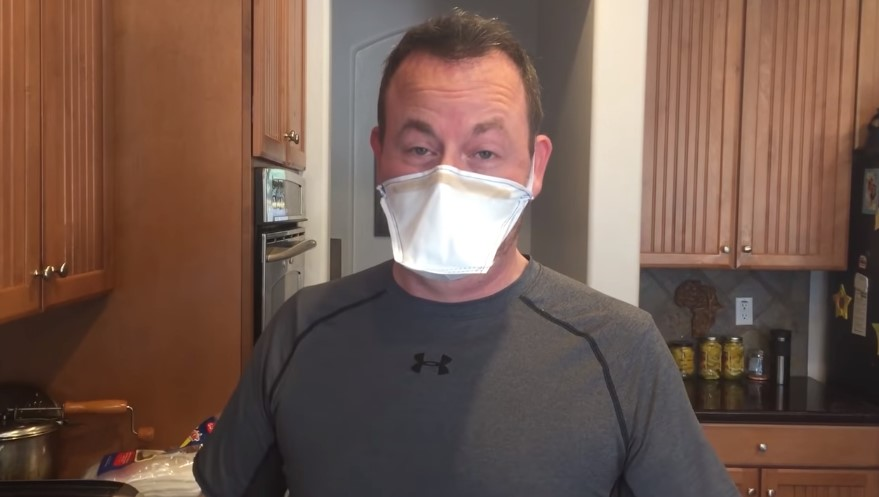face_with_mask: (367, 32, 552, 290)
